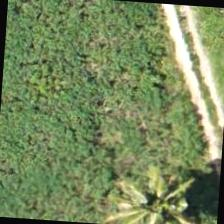Kelapa_Sawit: (111, 156, 207, 223)
